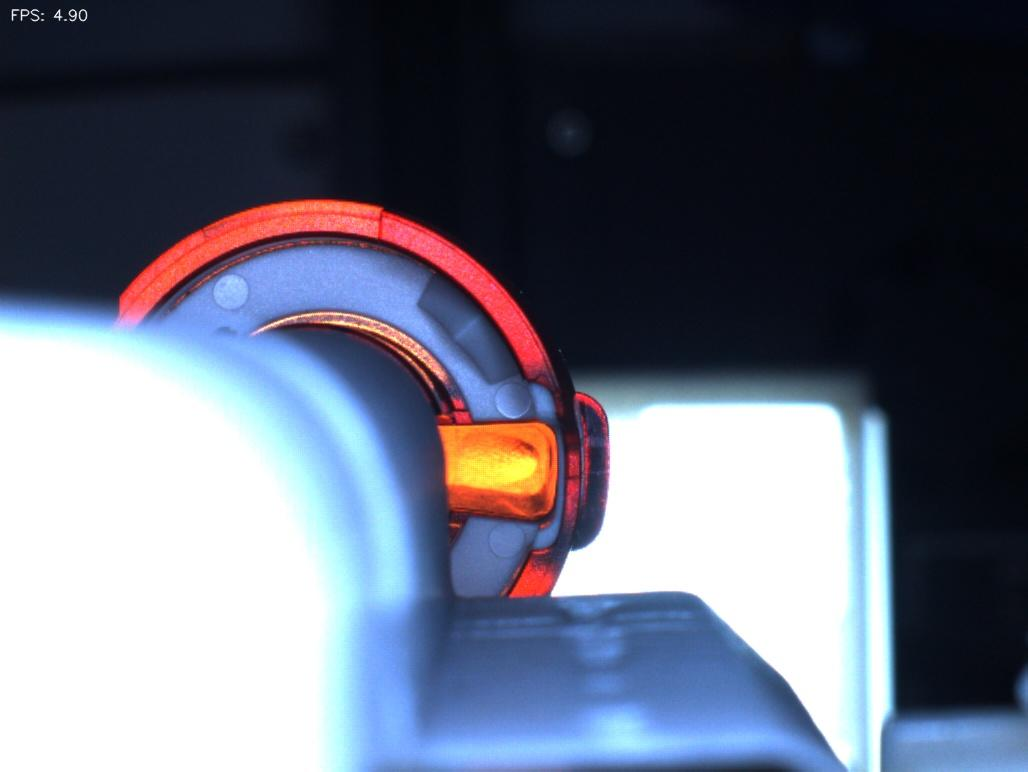Retassure: (448, 427, 549, 505)
